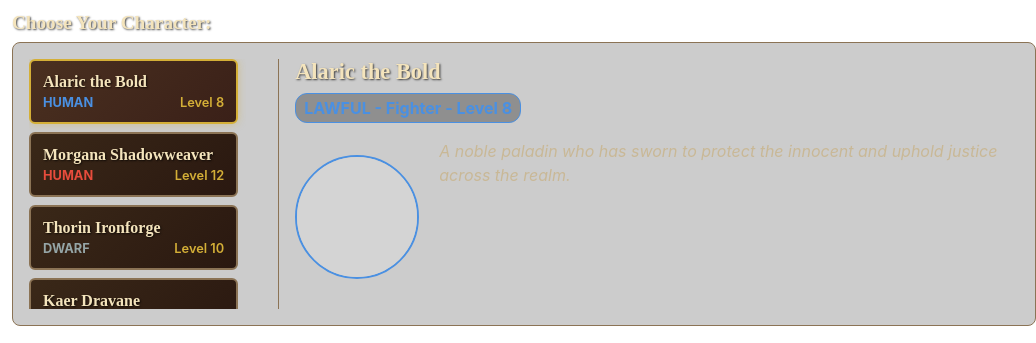
Test: PlayerSelection › updates details panel when hovering over a different player
Expected: the text "A noble paladin who has sworn to protect the innocent and uphold justice across the realm." is shown, [439, 141, 998, 185]
Expected: the text "A powerful sorceress who seeks forbidden knowledge and commands dark magic." is not shown
Hover over the button "Morgana Shadowweaver HUMAN Level 12" at (134, 164), box [29, 132, 238, 197]
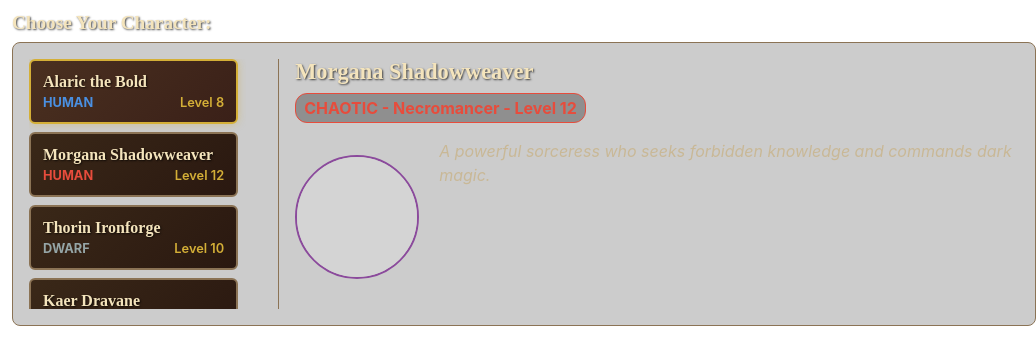
Result: the text "A powerful sorceress who seeks forbidden knowledge and commands dark magic." is shown at [439, 139, 1019, 187]
Result: the text "A noble paladin who has sworn to protect the innocent and uphold justice across the realm." is gone
